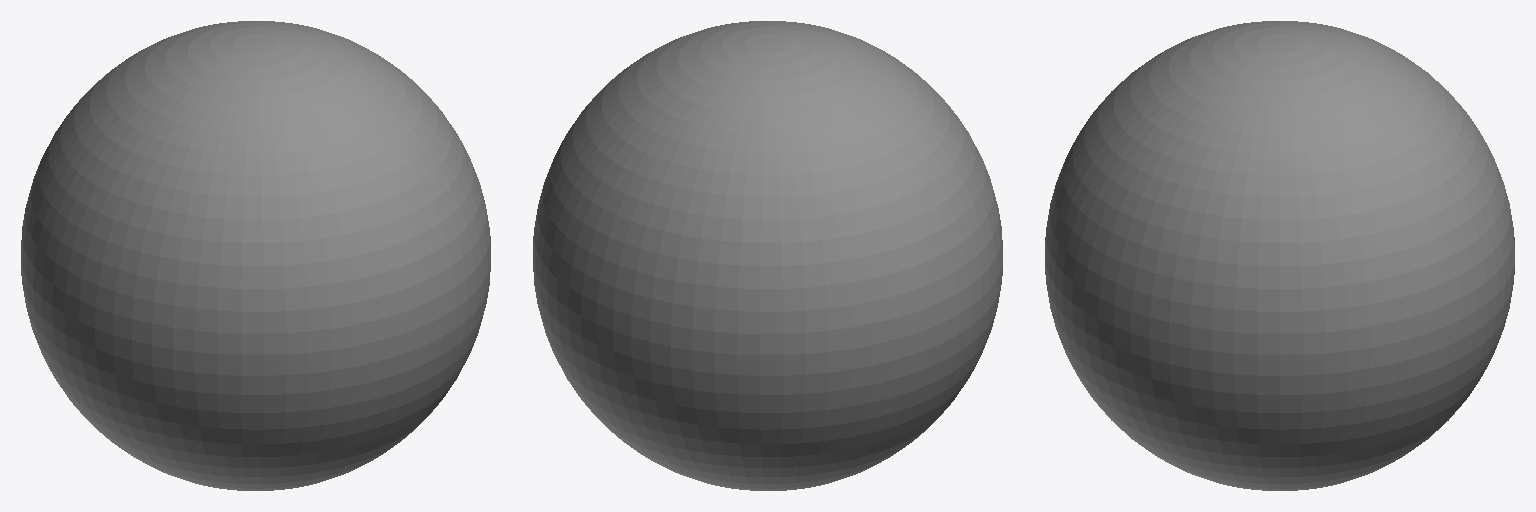
File: earth.obj
3 views of the same model, side by side, from view 1: azimuth 30°, elevation 25°; view 2: azimuth 150°, elevation 25°; view 3: azimuth 270°, elevation 25° (orthographic).
Visible parts, largest first — view 1: earth_Sphere002; view 2: earth_Sphere002; view 3: earth_Sphere002.
Part boxes in pixels (bbox=[...]): earth_Sphere002: bbox=[21, 21, 490, 490]; earth_Sphere002: bbox=[533, 21, 1002, 490]; earth_Sphere002: bbox=[1045, 21, 1514, 490].
Size of the model in its own units: 1.09 by 1.09 by 1.09.